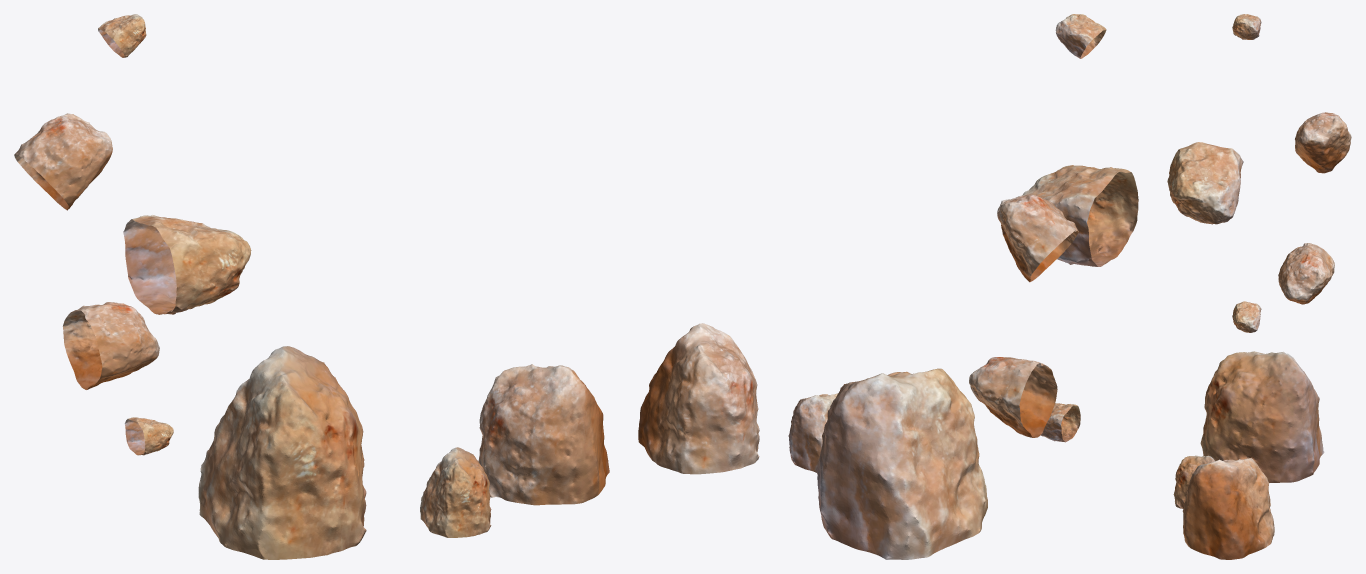
Rendered from Eins.glb.
3 views of the same model, side by side, from view 1: azimuth 30°, elevation 25°; view 2: azimuth 150°, elevation 25°; view 3: azimuth 270°, elevation 25° (orthographic). The views are drawn at different scales.
Visible parts, largest first — view 1: SalzStein1, SalzStein2, SalzStein1.002, SalzStein2.001, SalzStein2.002, SalzStein1.001, SalzStein1.003, SalzStein1.004; view 2: SalzStein1, SalzStein2, SalzStein1.002, SalzStein2.001, SalzStein2.002, SalzStein1.001, SalzStein1.004, SalzStein1.003; view 3: SalzStein1, SalzStein2, SalzStein1.002, SalzStein2.002, SalzStein2.001, SalzStein1.001, SalzStein1.003, SalzStein1.004.
Part boxes in pixels (x1,y1,x2,y2): SalzStein1: [198, 346, 366, 559]; SalzStein2: [478, 364, 609, 505]; SalzStein1.002: [123, 215, 251, 314]; SalzStein2.001: [62, 302, 159, 389]; SalzStein2.002: [14, 113, 112, 210]; SalzStein1.001: [420, 447, 491, 537]; SalzStein1.003: [124, 417, 173, 455]; SalzStein1.004: [98, 14, 146, 57]; SalzStein1: [816, 368, 987, 559]; SalzStein2: [638, 323, 759, 474]; SalzStein1.002: [1022, 165, 1138, 266]; SalzStein2.001: [969, 357, 1057, 437]; SalzStein2.002: [997, 194, 1078, 282]; SalzStein1.001: [788, 393, 837, 472]; SalzStein1.004: [1055, 14, 1106, 58]; SalzStein1.003: [1040, 403, 1080, 442]; SalzStein1: [1200, 351, 1324, 482]; SalzStein2: [1182, 458, 1274, 559]; SalzStein1.002: [1167, 142, 1243, 224]; SalzStein2.002: [1295, 112, 1351, 173]; SalzStein2.001: [1278, 243, 1334, 304]; SalzStein1.001: [1173, 455, 1214, 508]; SalzStein1.003: [1232, 301, 1261, 332]; SalzStein1.004: [1232, 14, 1261, 39].
Size of the model in its own units: 0.5976 by 0.6142 by 0.2647.
Materials: 2 (2 with a texture image).
